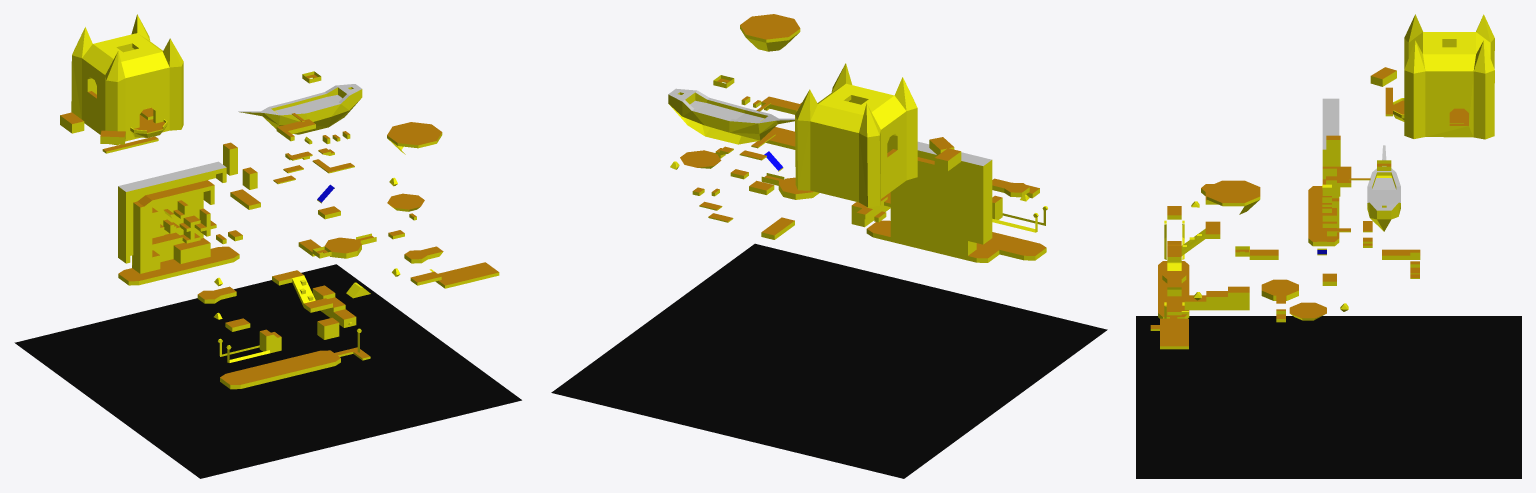
3 views of the same model, side by side, from view 1: azimuth 30°, elevation 25°; view 2: azimuth 150°, elevation 25°; view 3: azimuth 270°, elevation 25° (orthographic). The views are drawn at different scales.
Parts seen in each view (by area): view 1: rr_segment7_2A7C0_deathfloor, rr_segment7_2A7C0_normal, rr_segment7_2A7C0_climbable, rr_segment7_2A7C0_windy; view 2: rr_segment7_2A7C0_deathfloor, rr_segment7_2A7C0_normal, rr_segment7_2A7C0_climbable, rr_segment7_2A7C0_windy; view 3: rr_segment7_2A7C0_deathfloor, rr_segment7_2A7C0_normal, rr_segment7_2A7C0_climbable, rr_segment7_2A7C0_windy.
Boxes of the visible parts, x1=… form: rr_segment7_2A7C0_deathfloor: x1=14, y1=264, x2=521, y2=478; rr_segment7_2A7C0_normal: x1=60, y1=14, x2=499, y2=389; rr_segment7_2A7C0_climbable: x1=60, y1=74, x2=498, y2=384; rr_segment7_2A7C0_windy: x1=118, y1=84, x2=361, y2=191; rr_segment7_2A7C0_deathfloor: x1=551, y1=243, x2=1107, y2=478; rr_segment7_2A7C0_normal: x1=668, y1=26, x2=1047, y2=262; rr_segment7_2A7C0_climbable: x1=680, y1=14, x2=1046, y2=258; rr_segment7_2A7C0_windy: x1=668, y1=88, x2=991, y2=165; rr_segment7_2A7C0_deathfloor: x1=1136, y1=316, x2=1521, y2=478; rr_segment7_2A7C0_normal: x1=1150, y1=14, x2=1494, y2=349; rr_segment7_2A7C0_climbable: x1=1150, y1=67, x2=1468, y2=346; rr_segment7_2A7C0_windy: x1=1322, y1=98, x2=1400, y2=210.
Bounding box in the file's own units: 16 × 15.03 × 16.
